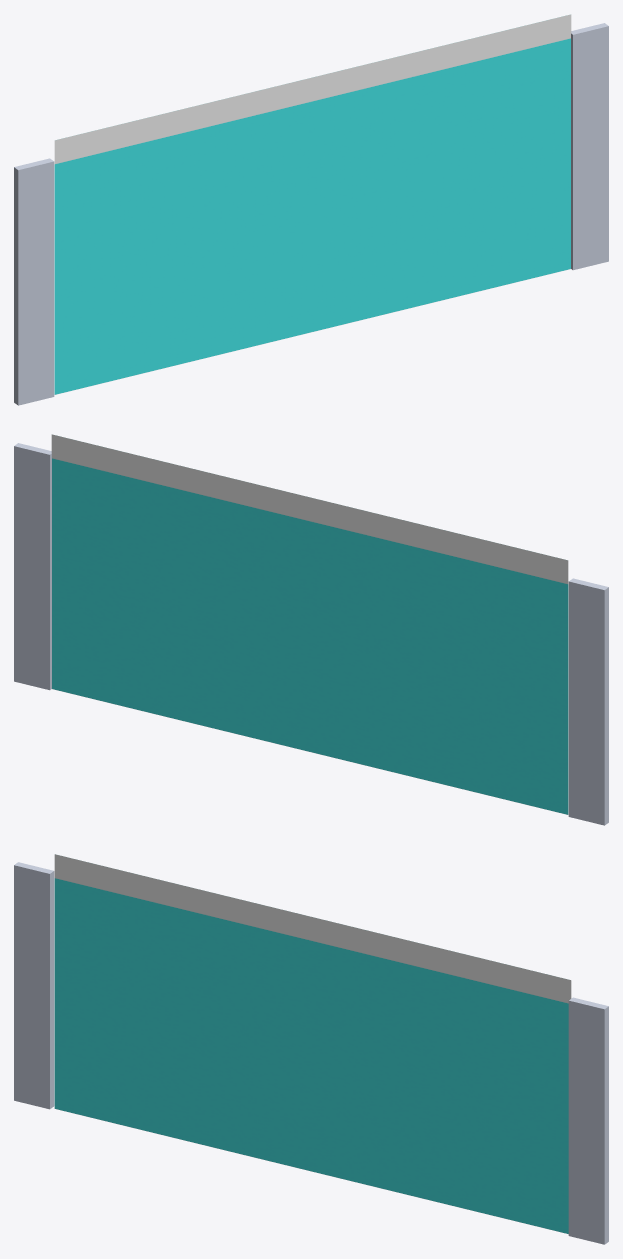
File: Gate.fbx
3 views of the same model, one above another, from view 1: azimuth 30°, elevation 25°; view 2: azimuth 150°, elevation 25°; view 3: azimuth 330°, elevation 25° (orthographic).
Parts seen in each view (by area): view 1: Obstacle_transperent, Obstacle_b, Obstacle; view 2: Obstacle_transperent, Obstacle_b, Obstacle; view 3: Obstacle_transperent, Obstacle_b, Obstacle.
Part boxes in pixels (left/top/right/bottom): Obstacle_transperent: left=54, top=14, right=571, bottom=394; Obstacle_b: left=14, top=158, right=54, bottom=405; Obstacle: left=571, top=23, right=608, bottom=270; Obstacle_transperent: left=51, top=434, right=568, bottom=814; Obstacle_b: left=568, top=578, right=608, bottom=825; Obstacle: left=14, top=443, right=51, bottom=690; Obstacle_transperent: left=54, top=854, right=571, bottom=1233; Obstacle_b: left=14, top=862, right=54, bottom=1109; Obstacle: left=568, top=997, right=608, bottom=1244.
Bounding box in the file's own units: 446 × 184 × 5.58.
